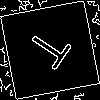T: (25, 25, 80, 76)
